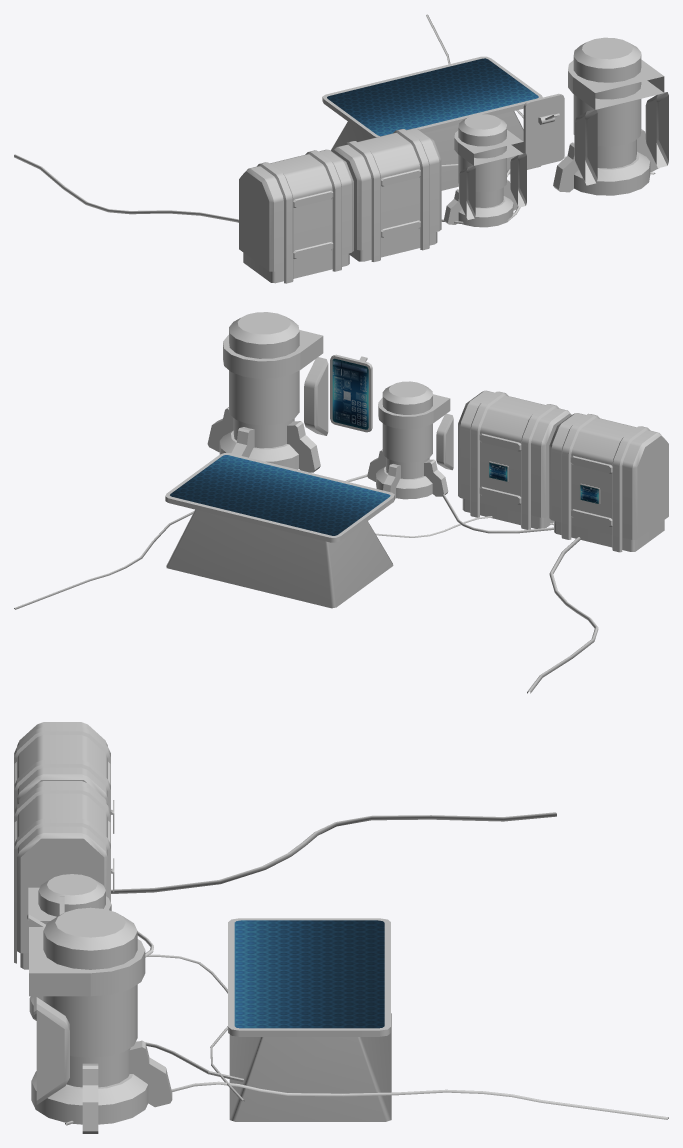
The model's file is ship_firePoint.fbx.
The picture shows the model from 3 angles, top to bottom: view 1: azimuth 30°, elevation 25°; view 2: azimuth 150°, elevation 25°; view 3: azimuth 270°, elevation 25°; orthographic projection. The views are drawn at different scales.
Parts seen in each view (by area): view 1: ship_firePoint_battery1, ship_firePoint_shelf, ship_firePoint_shelf1, ship_firePoint_control, ship_firePoint_battery, ship_firePoint_LED, ship_firePoint_controlBottom, ship_firePoint_wires1; view 2: ship_firePoint_battery1, ship_firePoint_shelf, ship_firePoint_controlBottom, ship_firePoint_control, ship_firePoint_shelf1, ship_firePoint_battery, ship_firePoint_LED, ship_firePoint_wires1; view 3: ship_firePoint_battery1, ship_firePoint_control, ship_firePoint_controlBottom, ship_firePoint_shelf1, ship_firePoint_shelf, ship_firePoint_wires1, ship_firePoint_battery.
Boxes of the visible parts, x1,y1,x2,y2 form: ship_firePoint_battery1: (553, 37, 668, 195); ship_firePoint_shelf: (239, 149, 353, 283); ship_firePoint_shelf1: (332, 128, 441, 261); ship_firePoint_control: (322, 56, 542, 138); ship_firePoint_battery: (444, 114, 526, 227); ship_firePoint_LED: (523, 93, 564, 168); ship_firePoint_controlBottom: (331, 111, 540, 190); ship_firePoint_wires1: (14, 14, 655, 224); ship_firePoint_battery1: (207, 312, 328, 472); ship_firePoint_shelf: (549, 413, 668, 552); ship_firePoint_controlBottom: (166, 509, 393, 608); ship_firePoint_control: (165, 453, 394, 542); ship_firePoint_shelf1: (458, 390, 571, 529); ship_firePoint_battery: (367, 381, 453, 499); ship_firePoint_LED: (330, 354, 372, 432); ship_firePoint_wires1: (14, 474, 598, 693); ship_firePoint_battery1: (29, 907, 172, 1133); ship_firePoint_control: (228, 918, 390, 1036); ship_firePoint_controlBottom: (229, 1013, 391, 1121); ship_firePoint_shelf1: (14, 781, 114, 969); ship_firePoint_shelf: (14, 722, 114, 833); ship_firePoint_wires1: (33, 812, 668, 1125); ship_firePoint_battery: (28, 874, 111, 1020).
Bounding box in the file's own units: 597 × 181 × 518.
